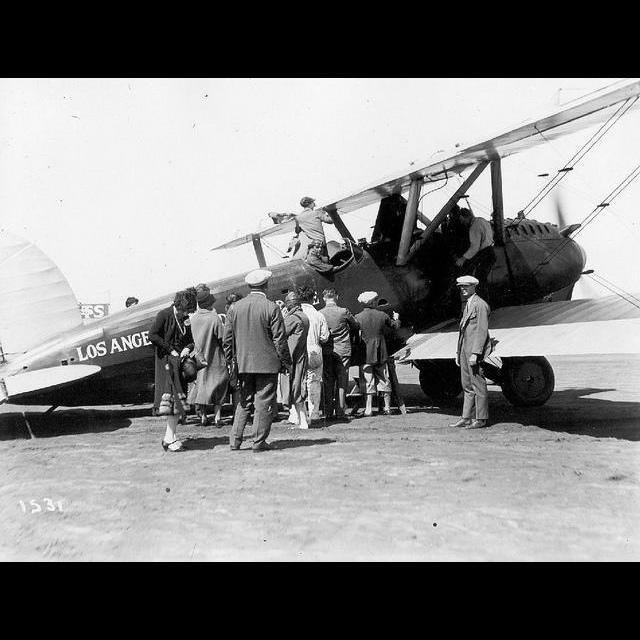airplane: (3, 82, 640, 403)
handbag: (484, 341, 504, 371), (180, 356, 198, 384), (190, 343, 208, 369)
person: (222, 268, 292, 454), (150, 288, 198, 452), (356, 289, 404, 423), (452, 274, 492, 434), (186, 290, 230, 426), (318, 290, 358, 422), (268, 196, 336, 272), (296, 284, 328, 428), (278, 292, 310, 428), (454, 209, 498, 303), (282, 296, 296, 372), (441, 205, 461, 231)
tie: (468, 303, 468, 313)
